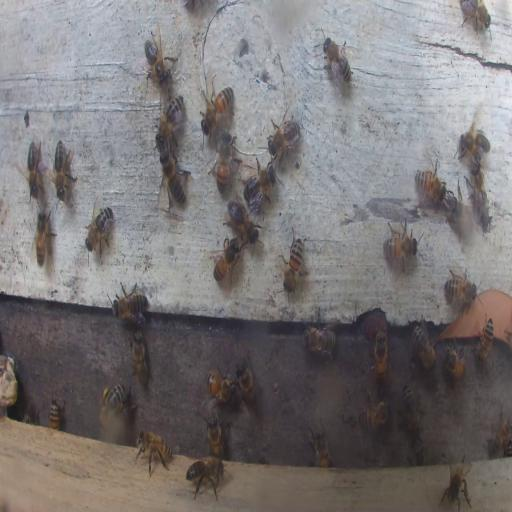bee: (156, 146, 190, 210), (142, 30, 177, 87), (184, 458, 230, 500), (440, 452, 472, 512), (242, 157, 278, 210), (198, 79, 232, 133), (320, 34, 352, 88), (85, 198, 115, 255), (134, 430, 171, 476), (457, 116, 491, 166), (267, 114, 301, 163), (281, 231, 306, 297), (466, 162, 489, 230), (383, 224, 420, 266), (210, 235, 241, 283), (111, 282, 147, 323), (226, 201, 258, 245), (33, 208, 57, 266), (52, 138, 75, 198), (410, 322, 436, 371), (98, 383, 126, 428), (444, 271, 478, 308), (486, 407, 510, 458), (301, 322, 337, 356), (157, 96, 183, 143), (450, 194, 476, 240), (414, 165, 445, 202), (359, 394, 390, 430), (215, 133, 233, 194), (130, 330, 149, 387), (236, 364, 258, 412), (459, 1, 492, 32), (205, 369, 235, 403), (402, 382, 422, 432), (24, 139, 40, 198), (474, 316, 494, 362), (312, 426, 332, 466), (443, 345, 467, 378), (207, 414, 224, 459), (374, 328, 387, 386), (48, 399, 62, 431), (411, 439, 424, 464)
